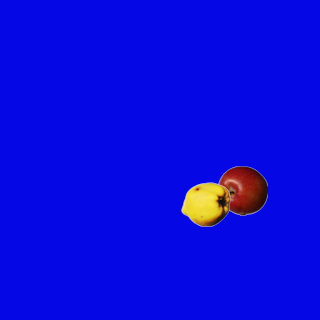Apple Braeburn: (217, 165, 267, 215)
Quince: (180, 179, 230, 229)
